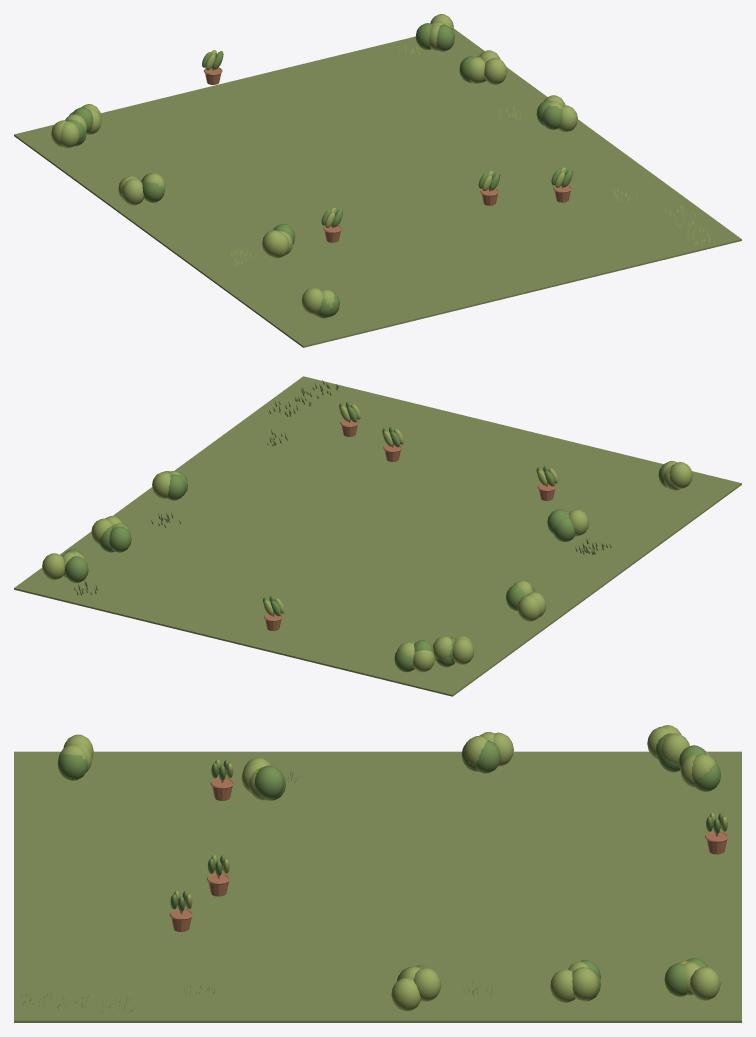
File: SM_SlackerFriendsHouse_Garden.fbx
The picture shows the model from 3 angles, top to bottom: view 1: azimuth 30°, elevation 25°; view 2: azimuth 150°, elevation 25°; view 3: azimuth 270°, elevation 25°; orthographic projection. The views are drawn at different scales.
Visible parts, largest first — view 1: EXPORT_Yard_Ground; view 2: EXPORT_Yard_Ground; view 3: EXPORT_Yard_Ground, EXPORT_Garden_Shrub.014, EXPORT_Garden_Shrub.021, EXPORT_Garden_Shrub.027, EXPORT_Garden_Shrub.032, EXPORT_Garden_Shrub.025, EXPORT_Garden_Shrub.030, EXPORT_Garden_Shrub.038, EXPORT_Garden_Shrub.013, EXPORT_Garden_Shrub.018, EXPORT_Garden_Shrub.004.
Boxes of the visible parts, left/top/right/bottom form: EXPORT_Yard_Ground: left=14, top=28, right=741, bottom=347; EXPORT_Yard_Ground: left=14, top=376, right=741, bottom=696; EXPORT_Yard_Ground: left=14, top=751, right=741, bottom=1022; EXPORT_Garden_Shrub.014: left=690, top=967, right=720, bottom=1000; EXPORT_Garden_Shrub.021: left=254, top=765, right=284, bottom=799; EXPORT_Garden_Shrub.027: left=391, top=977, right=420, bottom=1011; EXPORT_Garden_Shrub.032: left=572, top=967, right=598, bottom=1000; EXPORT_Garden_Shrub.025: left=413, top=968, right=441, bottom=1001; EXPORT_Garden_Shrub.030: left=550, top=969, right=575, bottom=1002; EXPORT_Garden_Shrub.038: left=57, top=753, right=88, bottom=780; EXPORT_Garden_Shrub.013: left=664, top=963, right=687, bottom=996; EXPORT_Garden_Shrub.018: left=475, top=740, right=500, bottom=773; EXPORT_Garden_Shrub.004: left=661, top=733, right=689, bottom=763.
Size of the model in its own units: 1400 by 1600 by 150.
